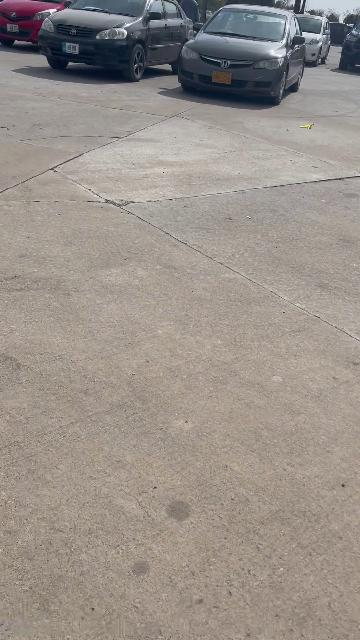plate: (62, 41, 79, 55)
